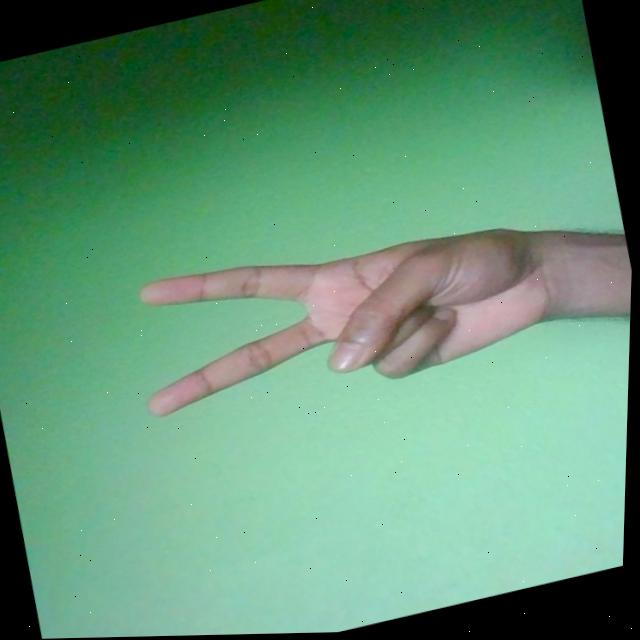Peace: (120, 190, 578, 437)
